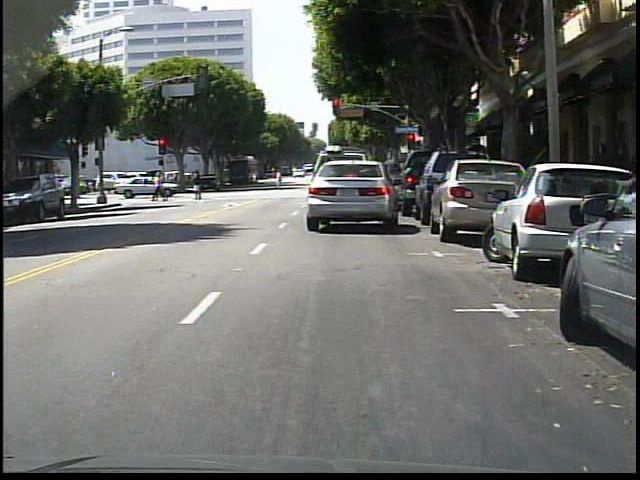person: (153, 174, 169, 203), (192, 170, 207, 200), (275, 168, 284, 190)
